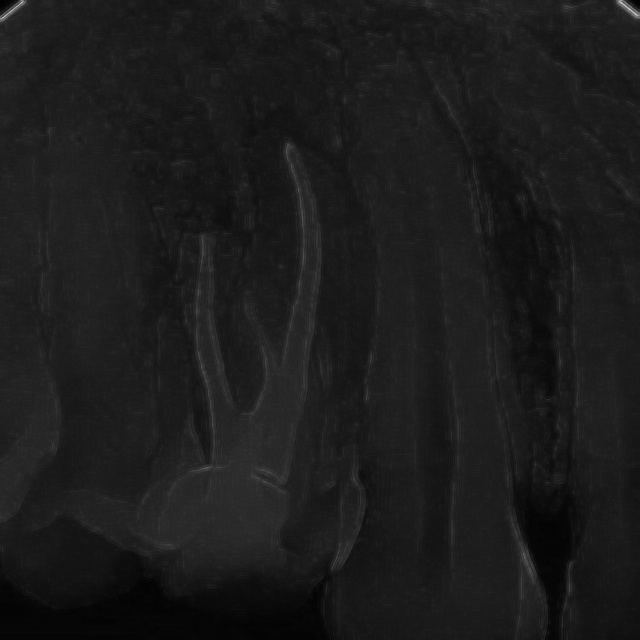Class 0- No endodontic treatment: (101, 76, 402, 634)
cavity: (295, 45, 565, 640)
